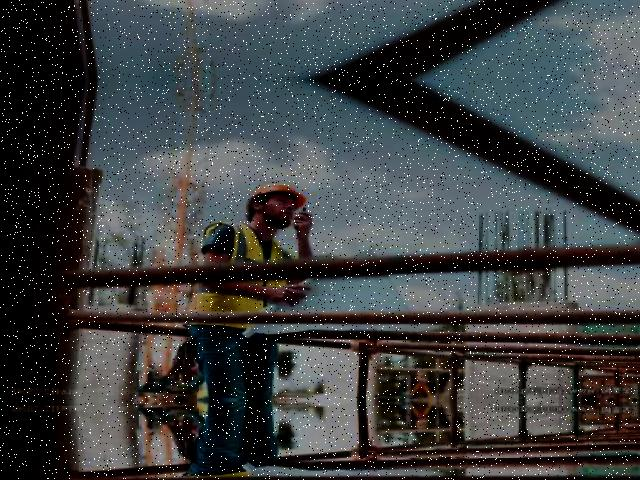Helmet: (247, 177, 311, 215)
